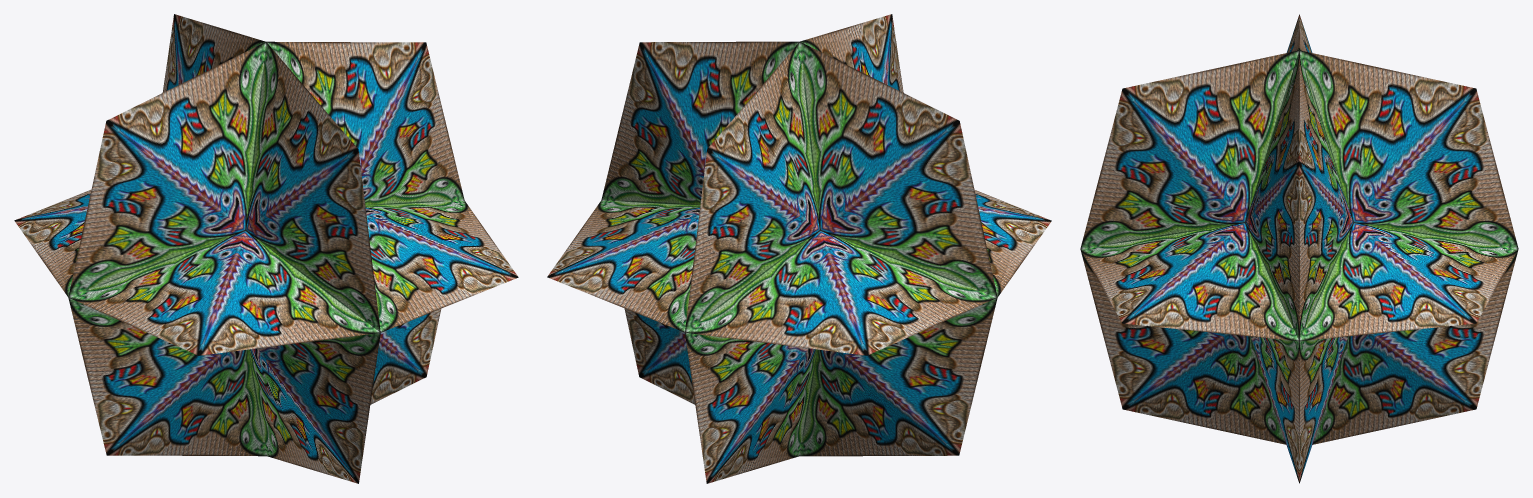
Rendered from Mobius48a_17.obj.
The picture shows the model from 3 angles, left to right: view 1: azimuth 30°, elevation 25°; view 2: azimuth 150°, elevation 25°; view 3: azimuth 270°, elevation 25°; orthographic projection. The views are drawn at different scales.
Bounding box in the file's own units: 2.41 × 2.41 × 2.41.
Materials: 1 (1 with a texture image).
